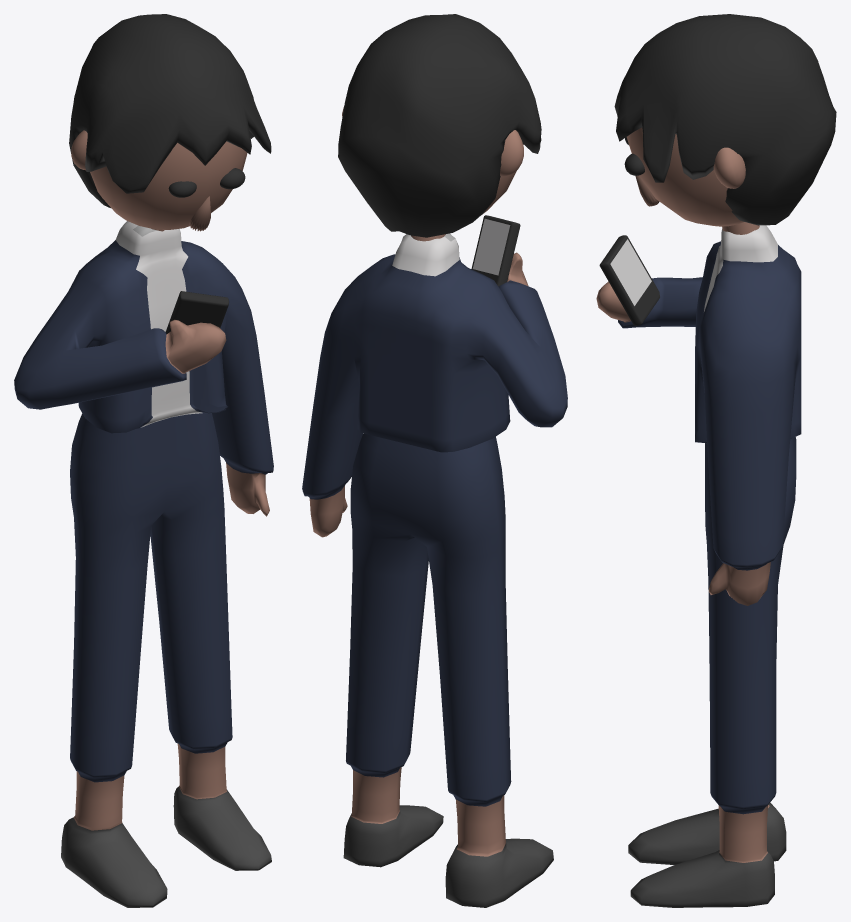
Rendered from level2 standing NPC.fbx.
3 renders of one model, left to right at view 1: azimuth 30°, elevation 25°; view 2: azimuth 150°, elevation 25°; view 3: azimuth 270°, elevation 25°, orthographic. The views are drawn at different scales.
Visible parts, largest first — view 1: lobby_boy_legs1, pCube16, polySurface20, pCube17; view 2: lobby_boy_legs1, pCube16, polySurface20, pCube17; view 3: polySurface20, pCube16, lobby_boy_legs1, pCube17.
Part boxes in pixels (x1=…): lobby_boy_legs1: x1=61, y1=413, x2=271, y2=907; pCube16: x1=14, y1=221, x2=273, y2=516; polySurface20: x1=69, y1=14, x2=271, y2=231; pCube17: x1=165, y1=291, x2=228, y2=334; lobby_boy_legs1: x1=343, y1=433, x2=553, y2=907; pCube16: x1=302, y1=233, x2=567, y2=537; polySurface20: x1=338, y1=14, x2=541, y2=241; pCube17: x1=471, y1=215, x2=520, y2=286; polySurface20: x1=614, y1=14, x2=836, y2=234; pCube16: x1=596, y1=225, x2=801, y2=605; lobby_boy_legs1: x1=628, y1=437, x2=796, y2=907; pCube17: x1=599, y1=235, x2=659, y2=325.
Size of the model in its own units: 12.76 by 40.48 by 10.19.
